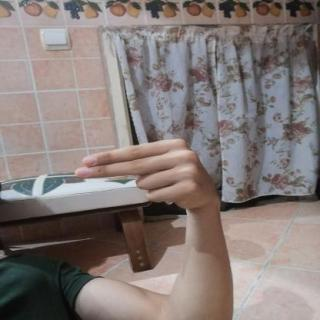AYN: (64, 131, 231, 216)
